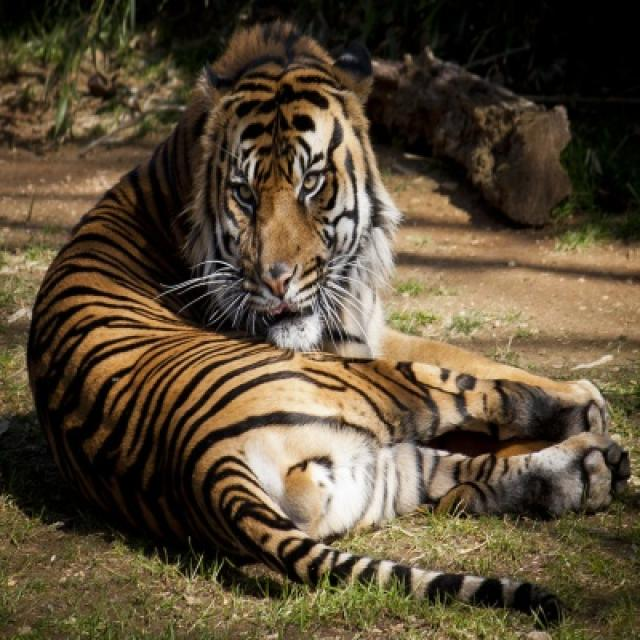Tiger: (29, 18, 635, 633)
